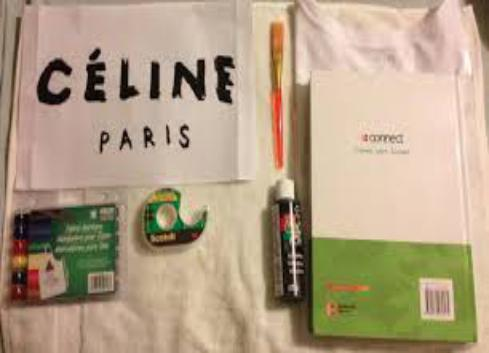CELINE: (33, 40, 236, 109)
